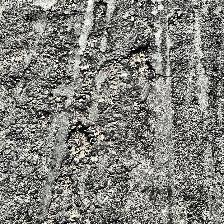pothole: (65, 120, 93, 158), (126, 44, 154, 78)
